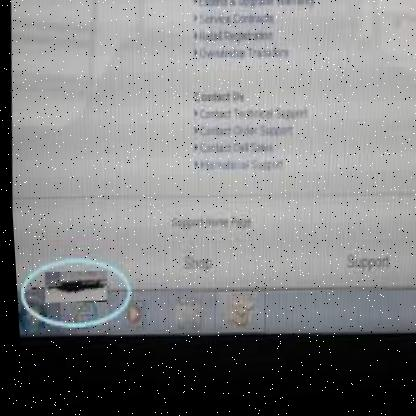spot: (40, 269, 105, 307)
